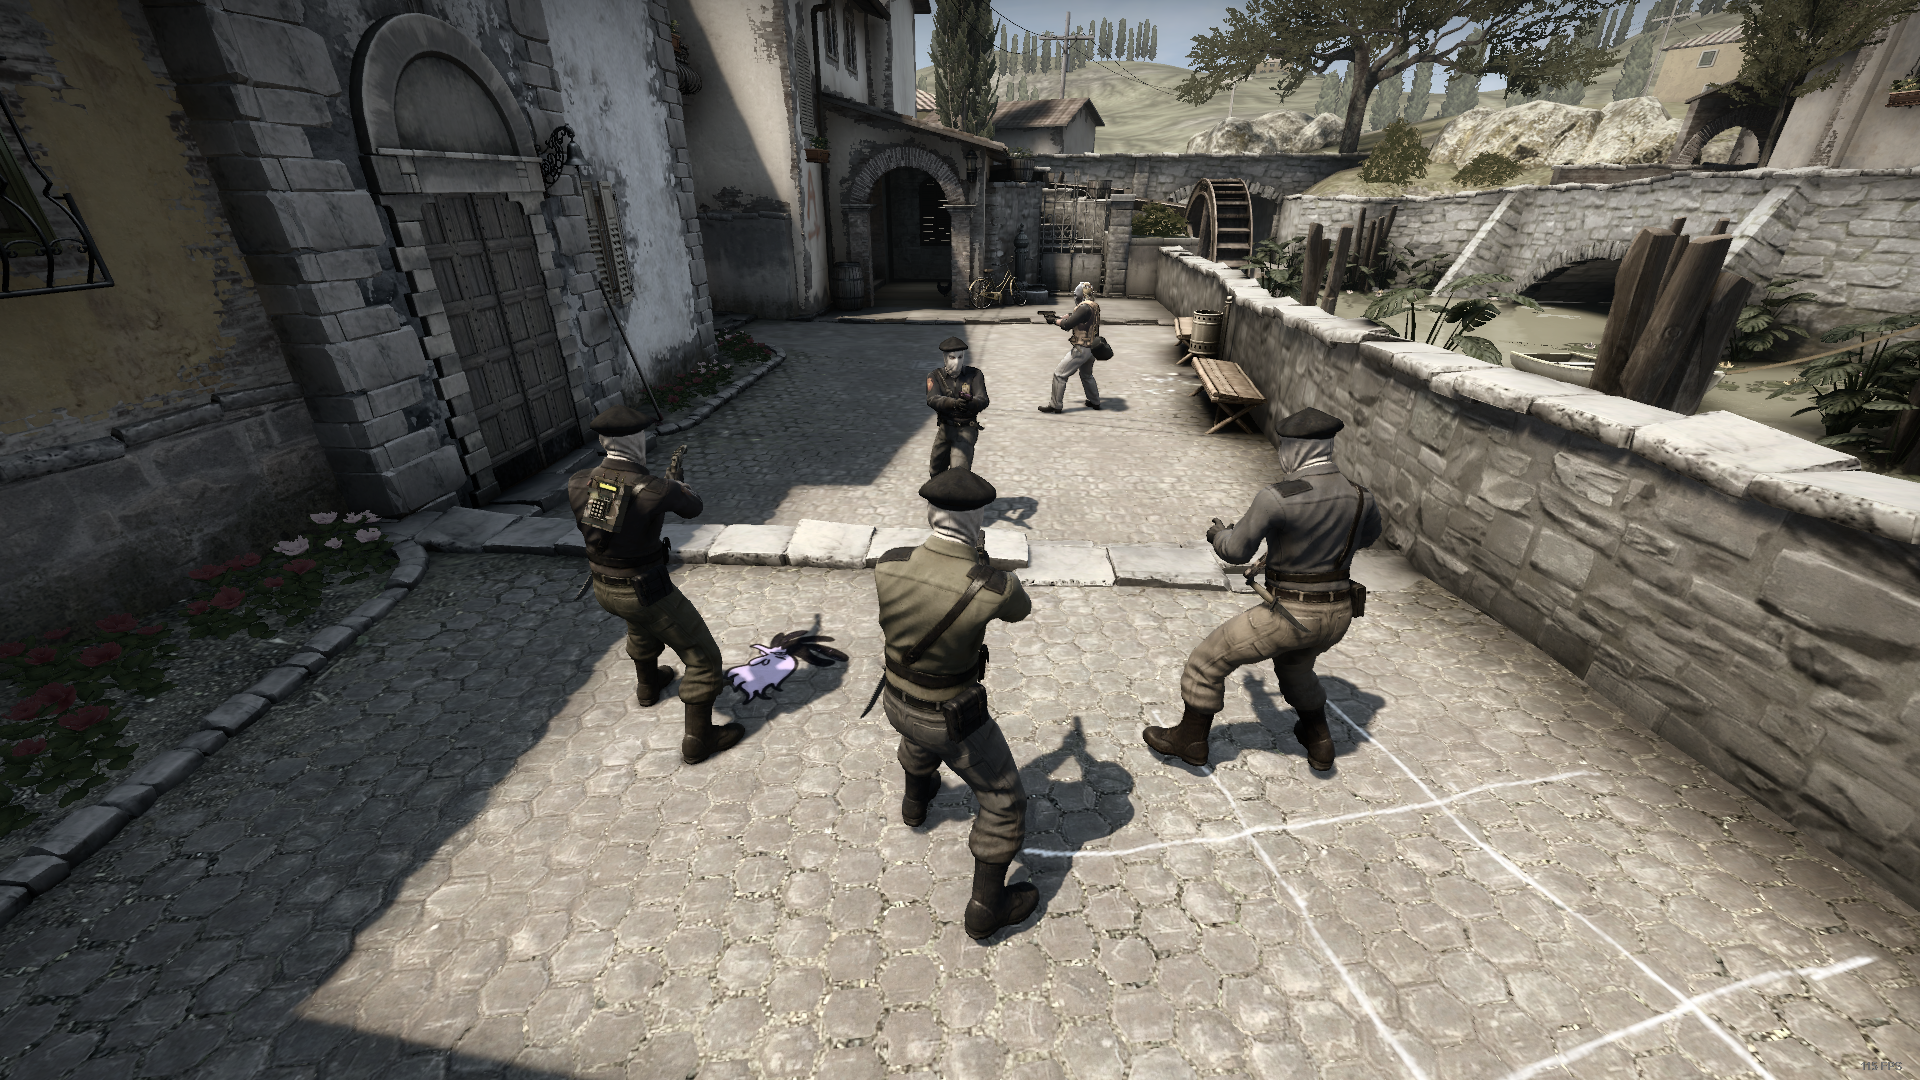t: (1143, 406, 1382, 771), (873, 467, 1040, 945), (564, 406, 745, 764), (924, 338, 988, 468)
